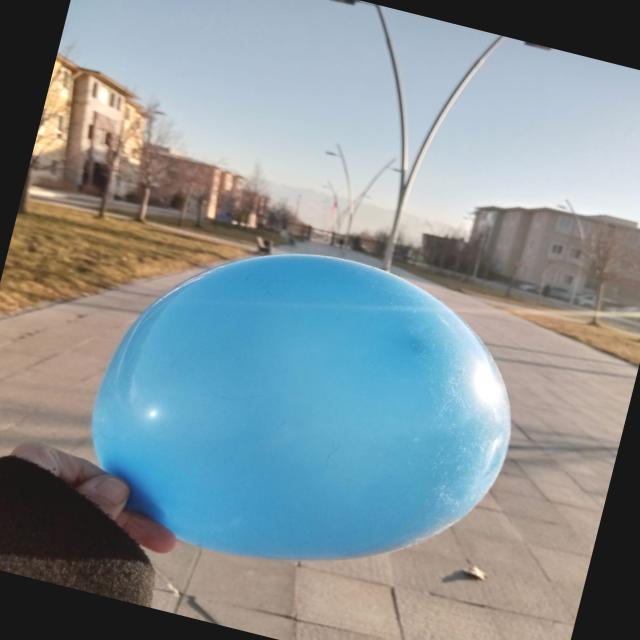balloon: (91, 254, 510, 559)
